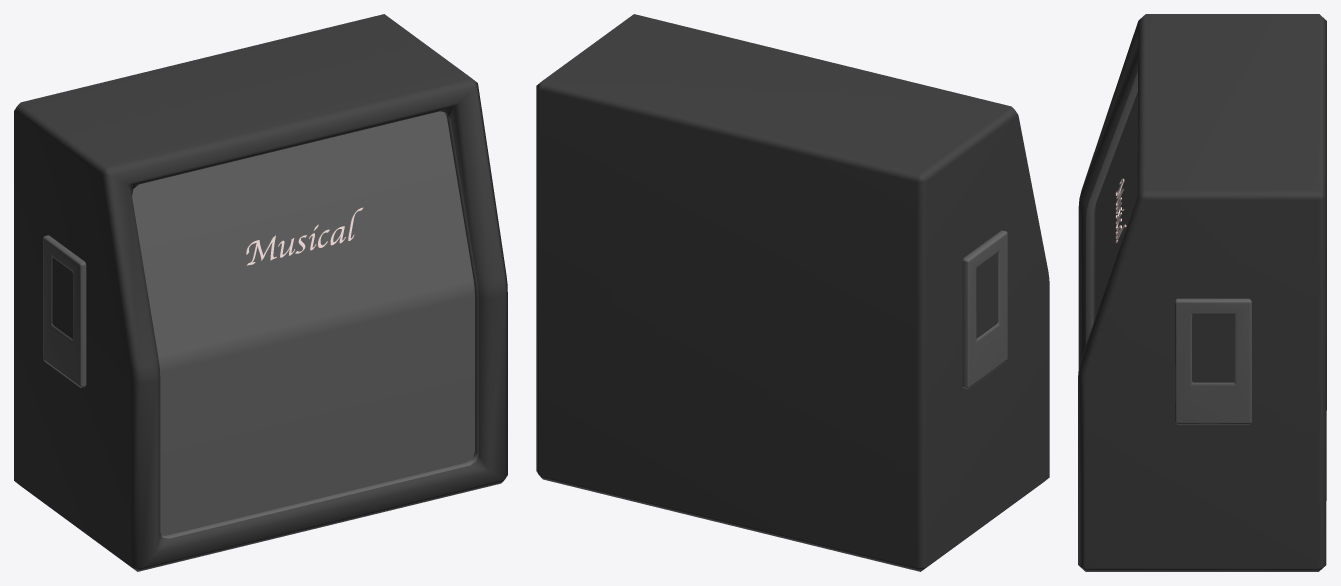
Rendered from Store_13_Guitar_Amp_Cabinet_1.glb.
The picture shows the model from 3 angles, left to right: view 1: azimuth 30°, elevation 25°; view 2: azimuth 150°, elevation 25°; view 3: azimuth 270°, elevation 25°; orthographic projection. The views are drawn at different scales.
Visible parts, largest first — view 1: Store_13_Guitar_Amp_Cabinet_1; view 2: Store_13_Guitar_Amp_Cabinet_1; view 3: Store_13_Guitar_Amp_Cabinet_1.
Boxes of the visible parts, left/top/right/bottom form: Store_13_Guitar_Amp_Cabinet_1: left=14, top=14, right=507, bottom=571; Store_13_Guitar_Amp_Cabinet_1: left=536, top=14, right=1049, bottom=571; Store_13_Guitar_Amp_Cabinet_1: left=1078, top=14, right=1326, bottom=571.
Size of the model in its own units: 0.9891 by 0.938 by 0.5544.
Materials: 1 (1 with a texture image).
